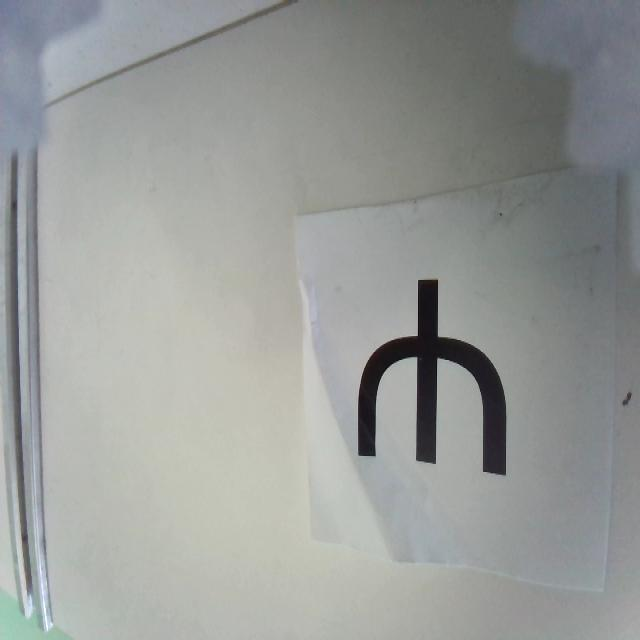nedoF: (355, 275, 508, 478)
